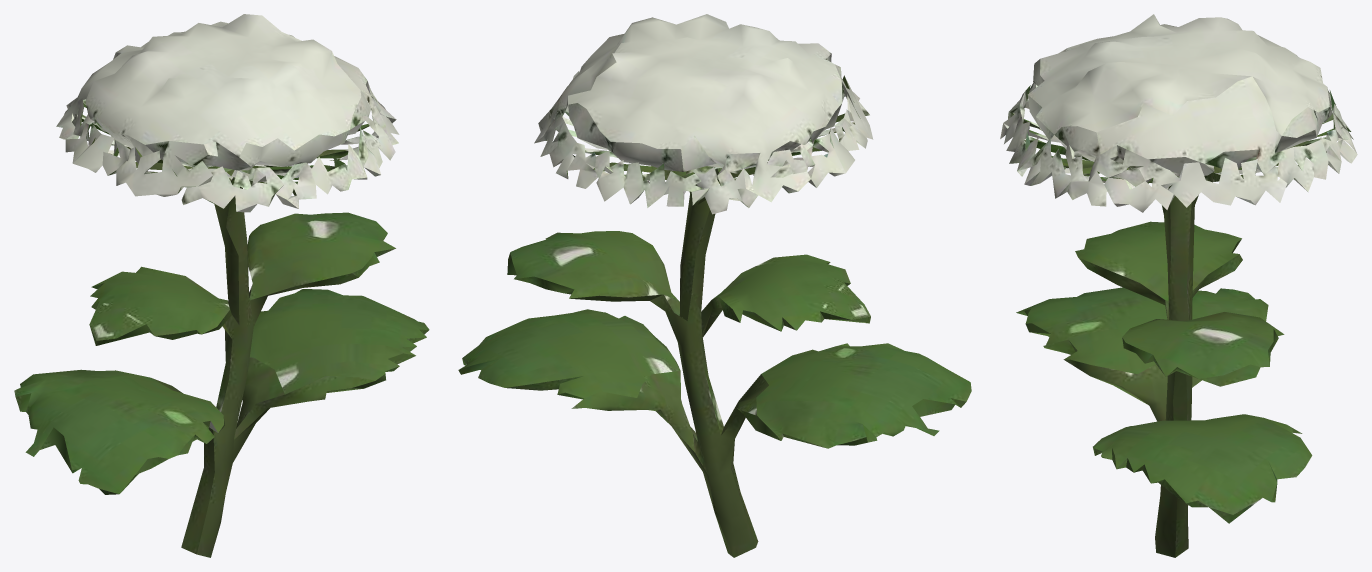
File: elderflower.glb
3 views of the same model, side by side, from view 1: azimuth 30°, elevation 25°; view 2: azimuth 150°, elevation 25°; view 3: azimuth 270°, elevation 25° (orthographic). The views are drawn at different scales.
Visible parts, largest first — view 1: elderflower; view 2: elderflower; view 3: elderflower.
Boxes of the visible parts, x1,y1,x2,y2 form: elderflower: [14, 14, 429, 557]; elderflower: [458, 14, 971, 557]; elderflower: [1000, 14, 1357, 557].
Bounding box in the file's own units: 0.902 × 1 × 0.6211.
1 material, 1 textured.
